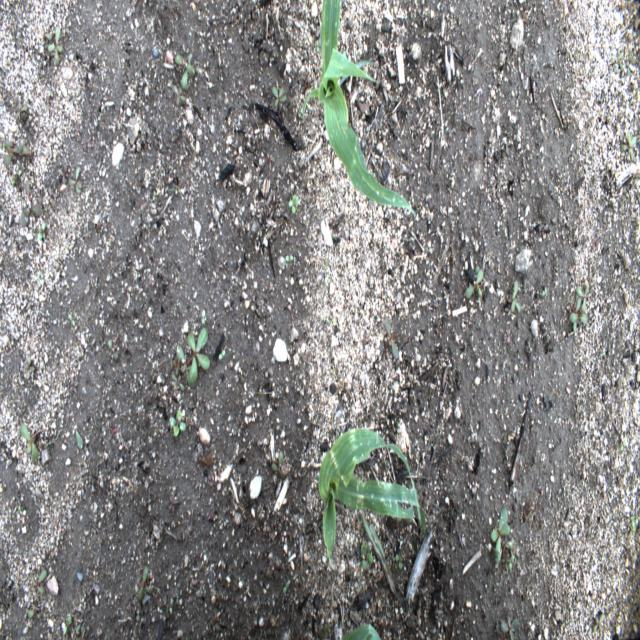crop: (303, 2, 418, 215), (316, 426, 427, 557), (341, 622, 383, 638)
weed: (178, 326, 213, 394), (490, 507, 518, 579), (16, 176, 42, 228), (566, 282, 590, 335), (174, 52, 199, 102), (132, 562, 155, 613), (457, 266, 491, 300), (5, 134, 33, 175), (14, 423, 39, 468), (382, 310, 401, 364), (28, 558, 50, 599), (617, 123, 637, 164), (44, 26, 64, 65), (358, 537, 377, 578), (59, 608, 85, 636), (65, 157, 84, 195), (166, 403, 186, 437), (271, 441, 290, 476), (506, 279, 522, 318), (501, 610, 523, 638), (624, 502, 638, 542), (614, 51, 634, 79), (103, 337, 122, 365), (170, 367, 187, 398), (272, 82, 289, 110), (288, 189, 301, 224), (22, 352, 36, 384), (37, 220, 50, 254), (11, 97, 30, 120), (278, 575, 296, 599), (591, 610, 608, 631), (392, 550, 404, 572)
